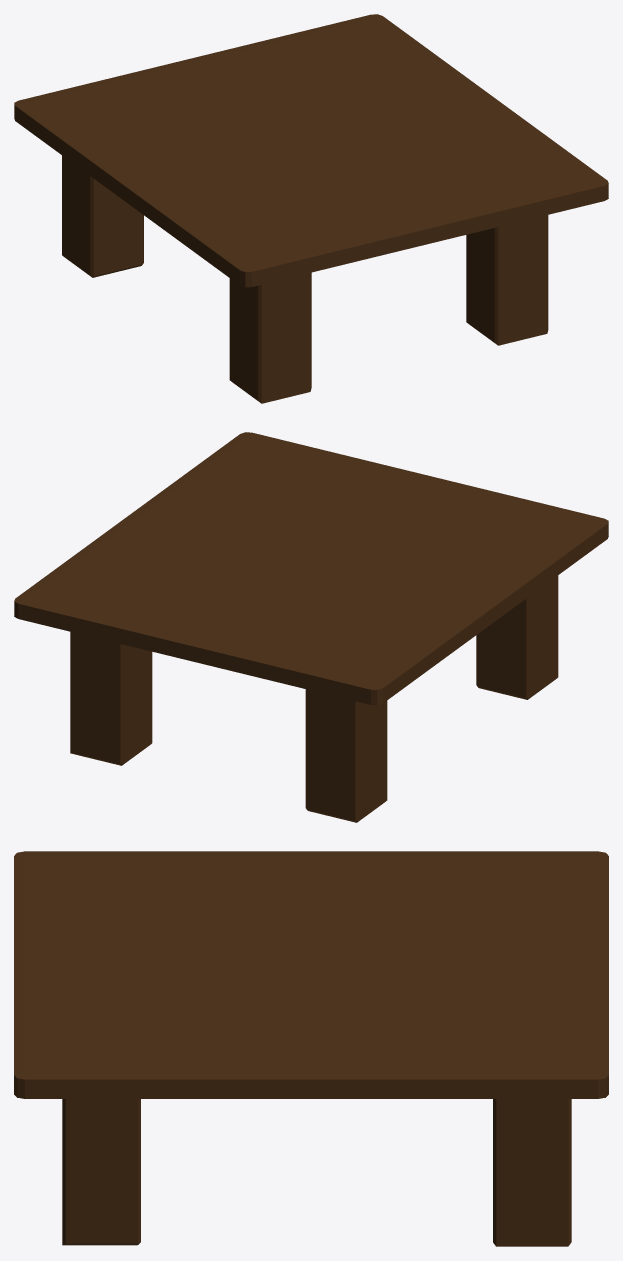
Rendered from brown_table.fbx.
3 views of the same model, one above another, from view 1: azimuth 30°, elevation 25°; view 2: azimuth 150°, elevation 25°; view 3: azimuth 270°, elevation 25° (orthographic). The views are drawn at different scales.
Parts seen in each view (by area): view 1: Cylinder.003; view 2: Cylinder.003; view 3: Cylinder.003.
Part boxes in pixels (box(x1,y1,x2,y2)): Cylinder.003: box(14, 14, 608, 403); Cylinder.003: box(14, 432, 608, 822); Cylinder.003: box(14, 851, 608, 1246).
Bounding box in the file's own units: 467 × 186 × 514.
